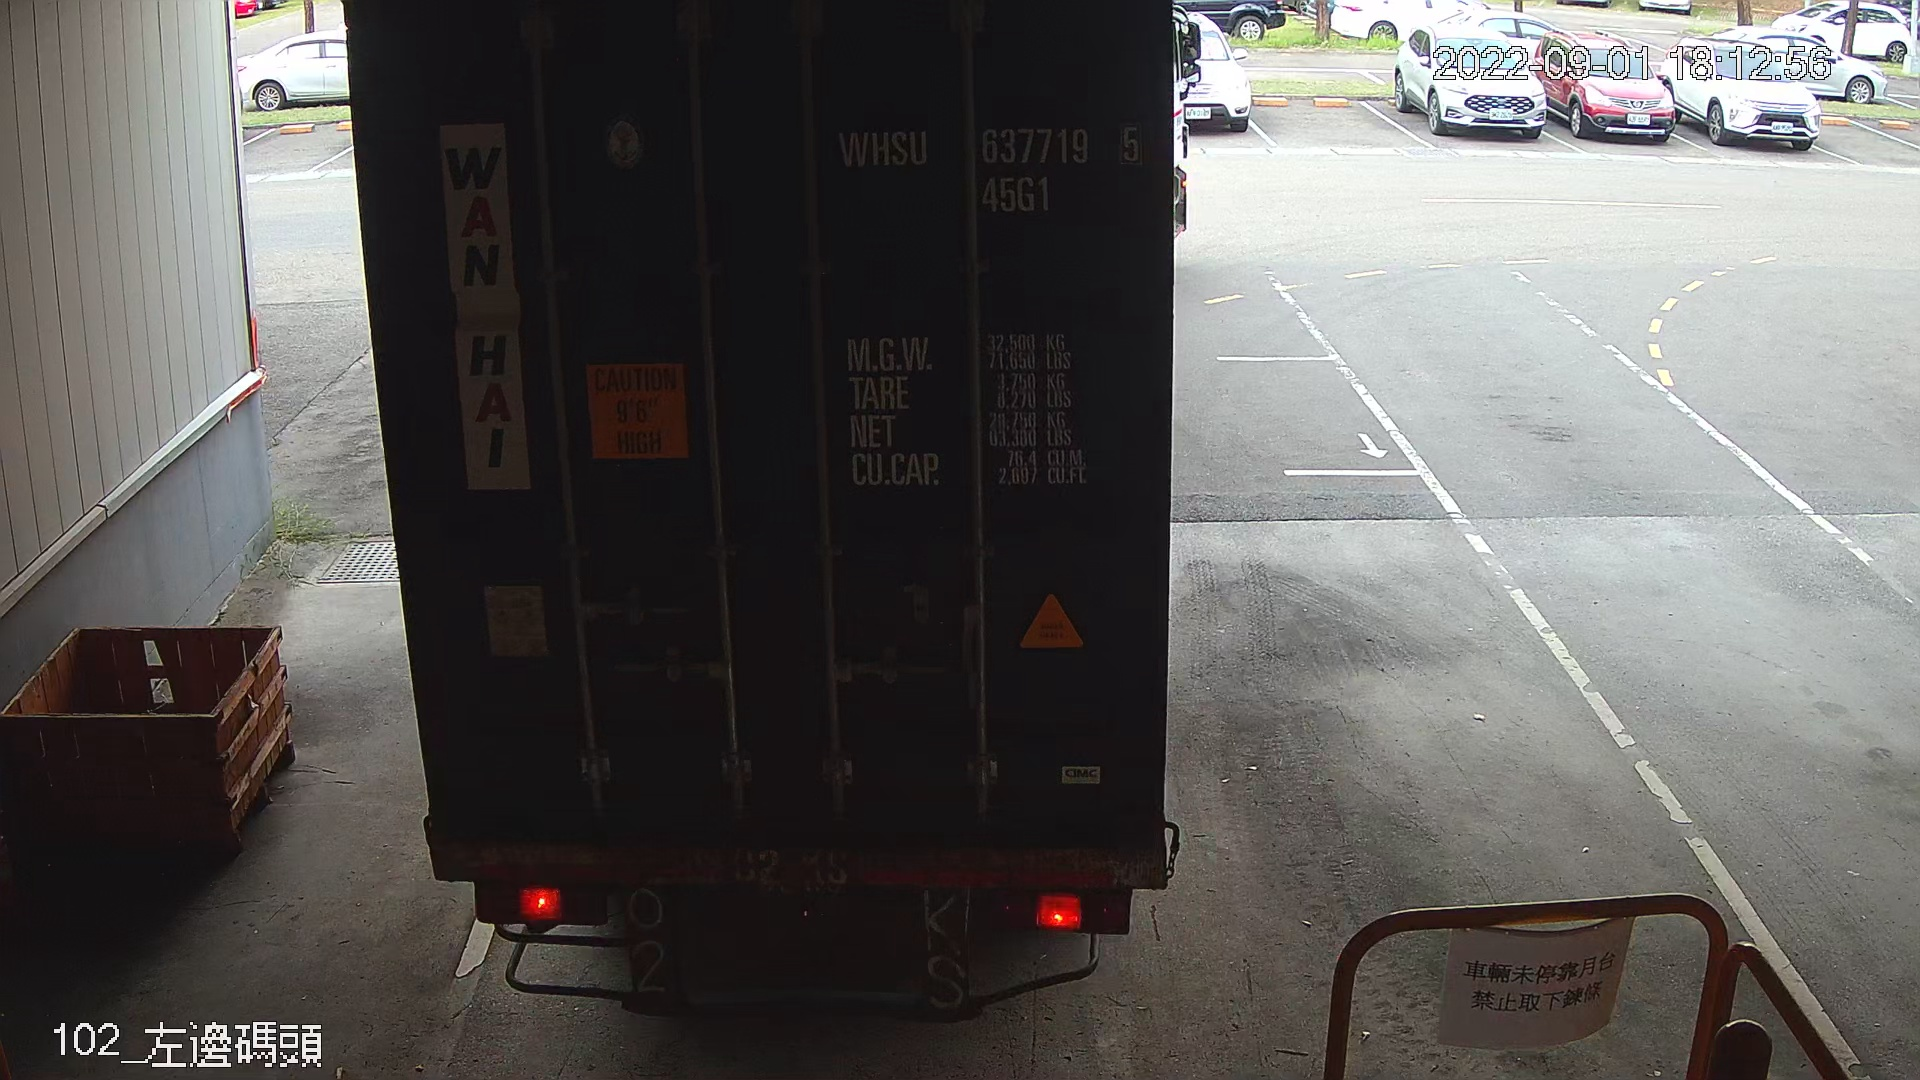container: (825, 104, 1156, 225)
